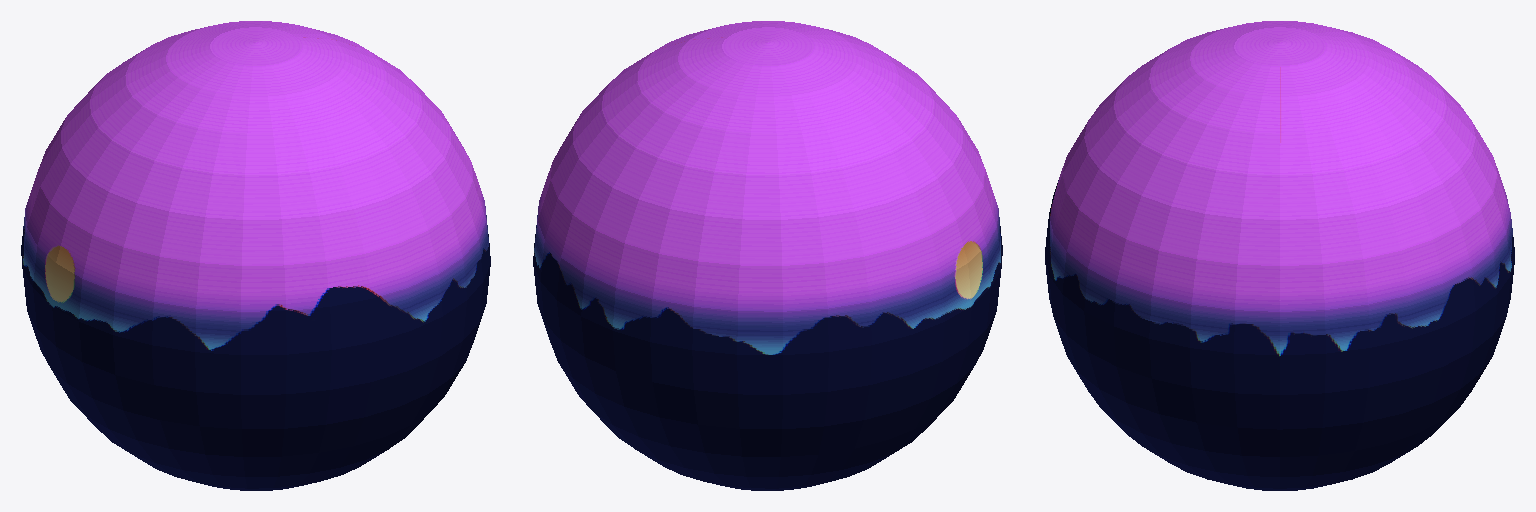
3 renders of one model, left to right at view 1: azimuth 30°, elevation 25°; view 2: azimuth 150°, elevation 25°; view 3: azimuth 270°, elevation 25°, orthographic.
Visible parts, largest first — view 1: 球; view 2: 球; view 3: 球.
Boxes of the visible parts, x1=… form: 球: x1=21, y1=21, x2=490, y2=490; 球: x1=533, y1=21, x2=1002, y2=490; 球: x1=1045, y1=21, x2=1514, y2=490.
Bounding box in the file's own units: 2000 × 2000 × 2000.
1 materials, 1 textured.